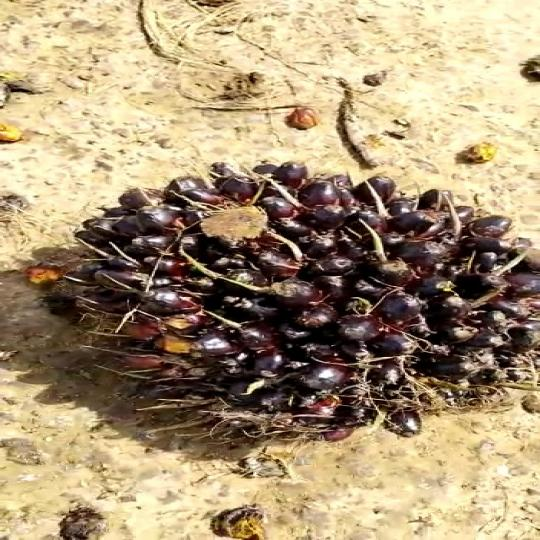mentah: (74, 149, 540, 429)
